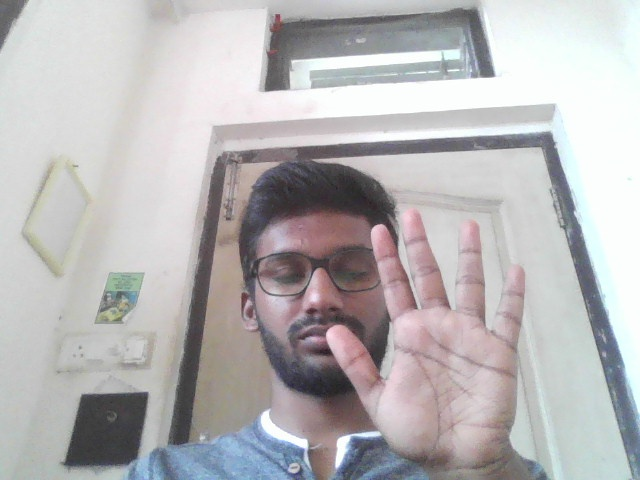Hello: (318, 204, 541, 477)
